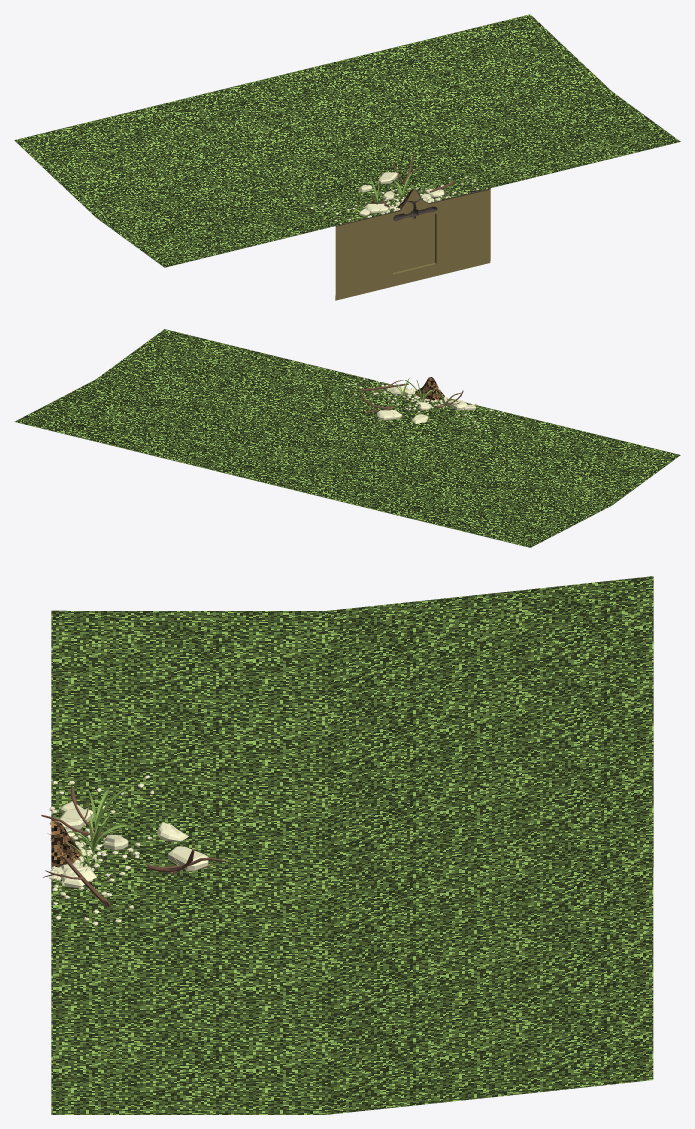
The model's file is enviroment.FBX.
3 renders of one model, top to bottom at view 1: azimuth 30°, elevation 25°; view 2: azimuth 150°, elevation 25°; view 3: azimuth 270°, elevation 25°, orthographic. The views are drawn at different scales.
Parts seen in each view (by area): view 1: enviroment; view 2: enviroment; view 3: enviroment.
Boxes of the visible parts, x1,y1,x2,y2 form: enviroment: [14, 14, 680, 300]; enviroment: [14, 329, 680, 547]; enviroment: [41, 576, 653, 1114].
Size of the model in its own units: 24216 by 4312 by 12435.
